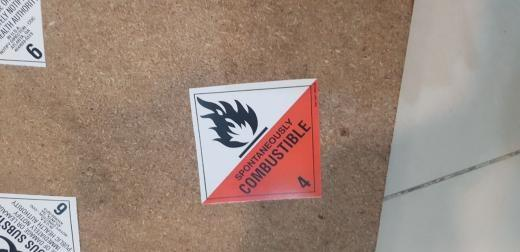infectious-substance: (1, 193, 81, 252)
spontaneously-combustible: (188, 78, 324, 203)
